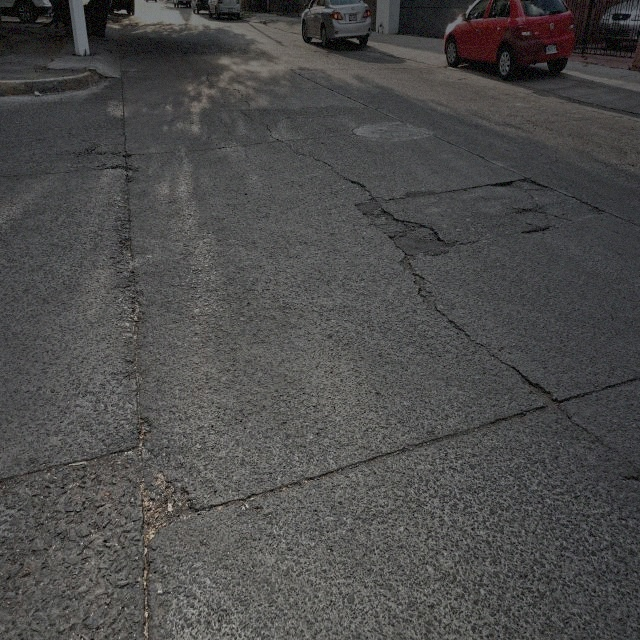pothole: (137, 446, 205, 548), (519, 368, 567, 418), (414, 274, 438, 314), (127, 275, 142, 326), (109, 151, 132, 176), (117, 232, 134, 264), (135, 412, 151, 440), (399, 252, 414, 271), (492, 180, 518, 190), (351, 179, 366, 189)
